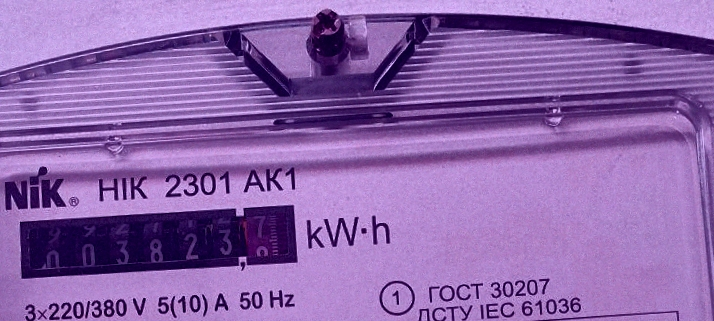0: (76, 238, 98, 267), (42, 245, 62, 269)
2: (181, 229, 202, 262)
3: (215, 225, 236, 256), (112, 235, 132, 265)
7: (252, 212, 270, 242)
8: (146, 234, 165, 264)
9: (43, 224, 62, 244)
screen: (10, 195, 303, 287)
